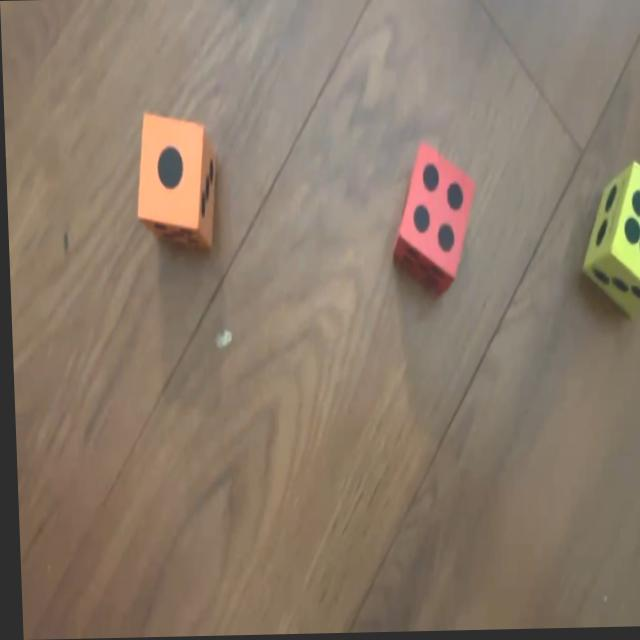cube: (385, 143, 479, 295)
